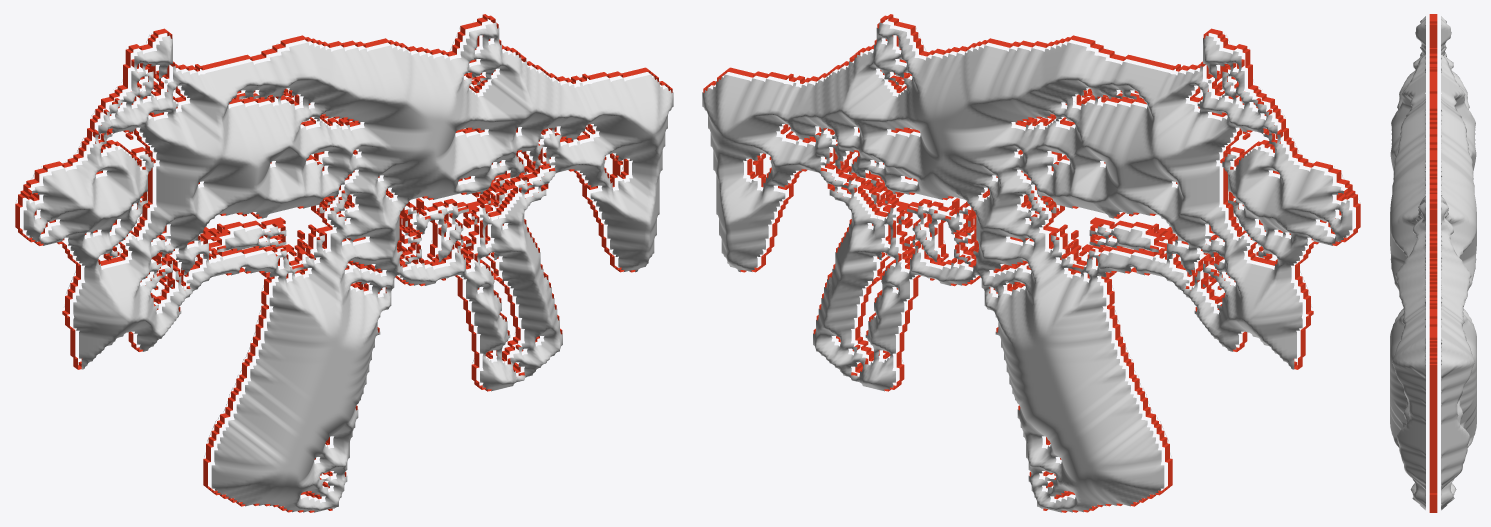
The model's file is codm-qq9-diavolo-relief.glb.
3 views of the same model, side by side, from view 1: azimuth 30°, elevation 25°; view 2: azimuth 150°, elevation 25°; view 3: azimuth 270°, elevation 25° (orthographic). The views are drawn at different scales.
Visible parts, largest first — view 1: projected-skin, silhouette-edge; view 2: projected-skin, silhouette-edge; view 3: projected-skin, silhouette-edge.
Boxes of the visible parts, <box> form: projected-skin: <box>16,22,673,512</box>; silhouette-edge: <box>15,14,672,512</box>; projected-skin: <box>702,22,1359,512</box>; silhouette-edge: <box>703,14,1360,512</box>; projected-skin: <box>1390,16,1476,510</box>; silhouette-edge: <box>1429,14,1437,512</box>.
Size of the model in its own units: 0.9255 by 0.702 by 0.132.
